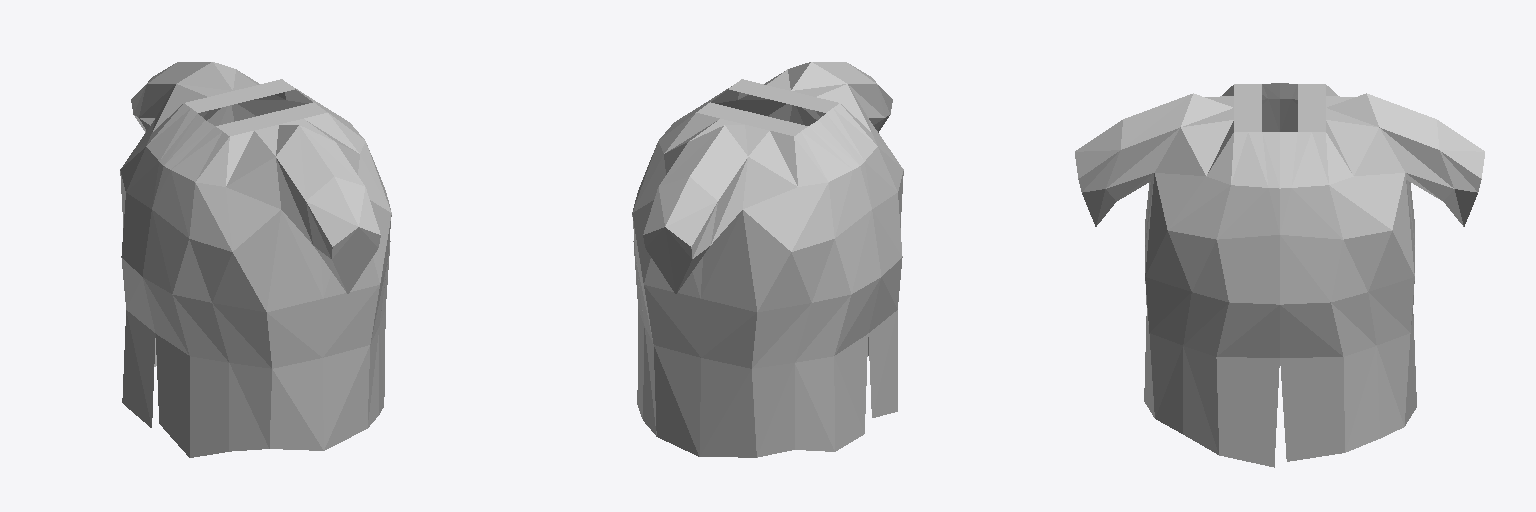
Rendered from ropaMuerte.obj.
3 renders of one model, left to right at view 1: azimuth 30°, elevation 25°; view 2: azimuth 150°, elevation 25°; view 3: azimuth 270°, elevation 25°, orthographic.
Visible parts, largest first — view 1: diabloTraje.002; view 2: diabloTraje.002; view 3: diabloTraje.002.
Boxes of the visible parts, x1=… form: diabloTraje.002: x1=120, y1=62, x2=391, y2=457; diabloTraje.002: x1=632, y1=62, x2=903, y2=457; diabloTraje.002: x1=1075, y1=83, x2=1484, y2=467.
Bounding box in the file's own units: 1.62 × 2.22 × 2.54.